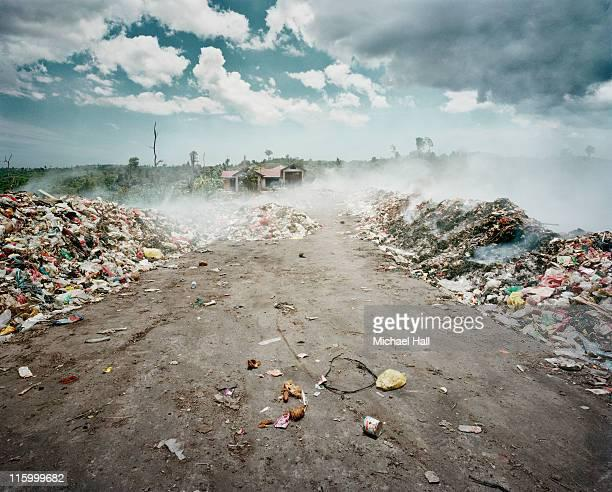garbage: (339, 183, 612, 401), (0, 176, 186, 345), (214, 202, 313, 243)
